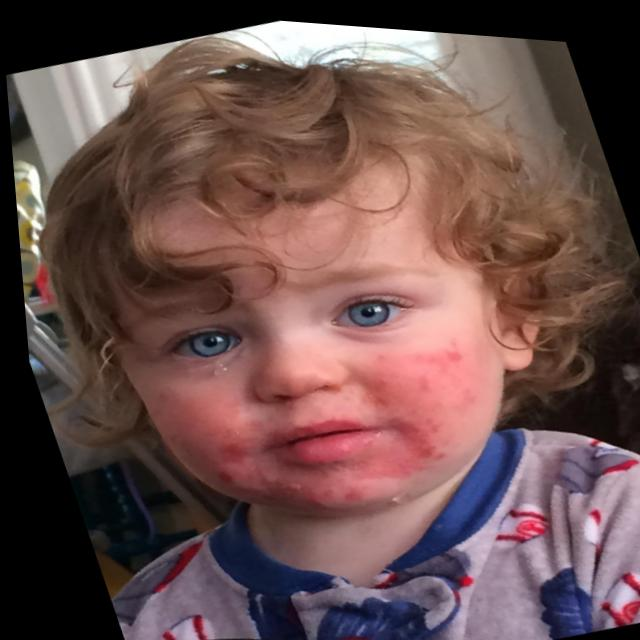Erythema infectiosum: (351, 324, 478, 424), (147, 375, 248, 466), (361, 421, 442, 474)
